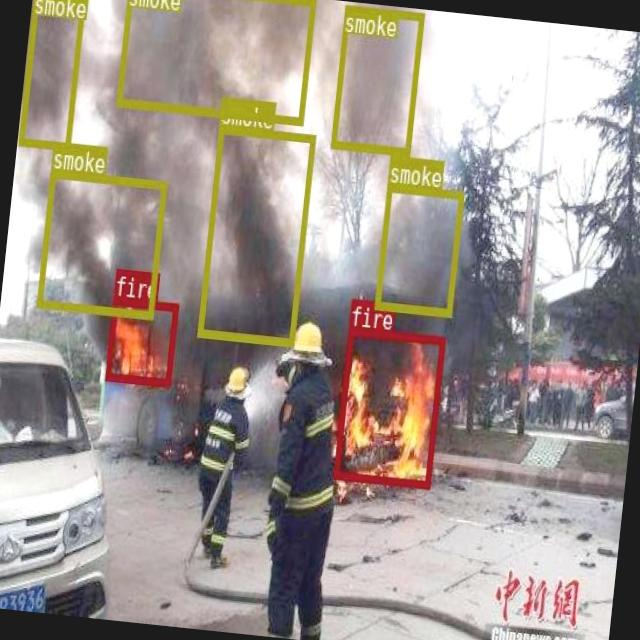fire: (333, 325, 444, 487), (104, 296, 178, 386)
smoke: (196, 123, 314, 344), (115, 0, 315, 123), (36, 168, 166, 318), (329, 4, 424, 154), (372, 183, 463, 315), (18, 0, 85, 148)
